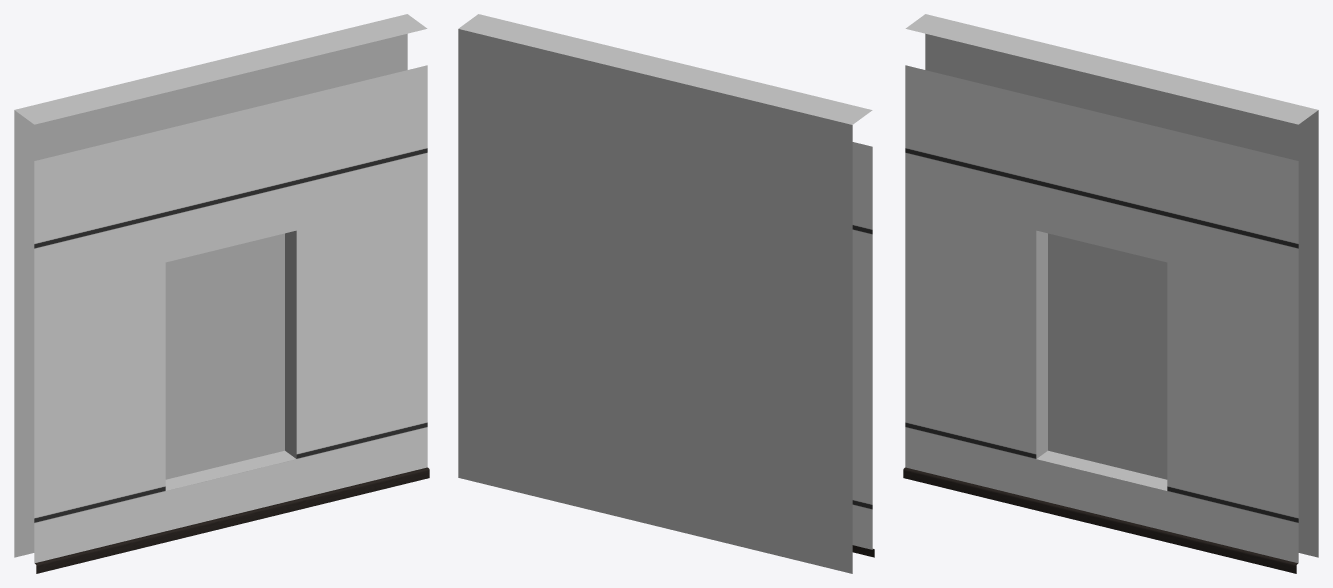
The model's file is Wall04.FBX.
The picture shows the model from 3 angles, left to right: view 1: azimuth 30°, elevation 25°; view 2: azimuth 150°, elevation 25°; view 3: azimuth 330°, elevation 25°; orthographic projection.
Parts seen in each view (by area): view 1: Wall04; view 2: Wall04; view 3: Wall04.
Boxes of the visible parts, box(x1,y1,x2,y2) form: Wall04: box(14, 14, 429, 573); Wall04: box(458, 14, 874, 573); Wall04: box(903, 14, 1318, 573).
Bounding box in the file's own units: 4.5 × 4.9 × 0.44.
